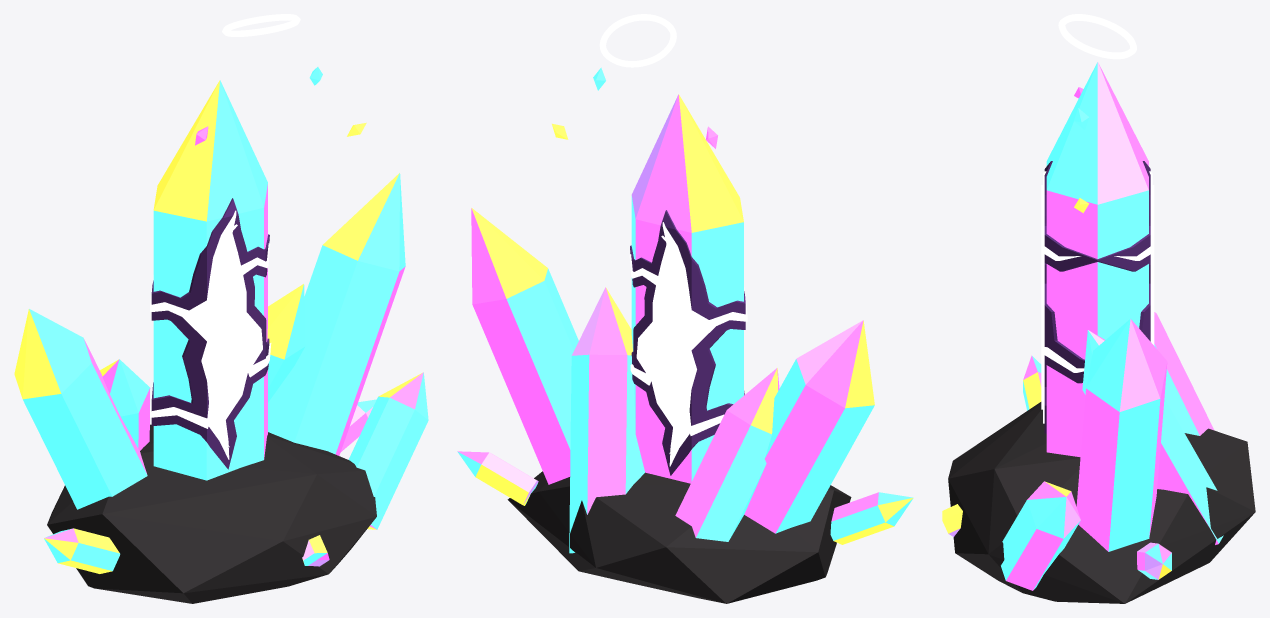
The model's file is aetherift_crystalline.glb.
3 renders of one model, left to right at view 1: azimuth 30°, elevation 25°; view 2: azimuth 150°, elevation 25°; view 3: azimuth 270°, elevation 25°, orthographic. The views are drawn at different scales.
Parts seen in each view (by area): view 1: aetherift_crystalline; view 2: aetherift_crystalline; view 3: aetherift_crystalline.
Boxes of the visible parts, left/top/right/bottom form: aetherift_crystalline: left=14, top=14, right=428, bottom=603; aetherift_crystalline: left=457, top=14, right=913, bottom=603; aetherift_crystalline: left=942, top=14, right=1255, bottom=603.
Bounding box in the file's own units: 0.2265 × 0.28 × 0.1465.
